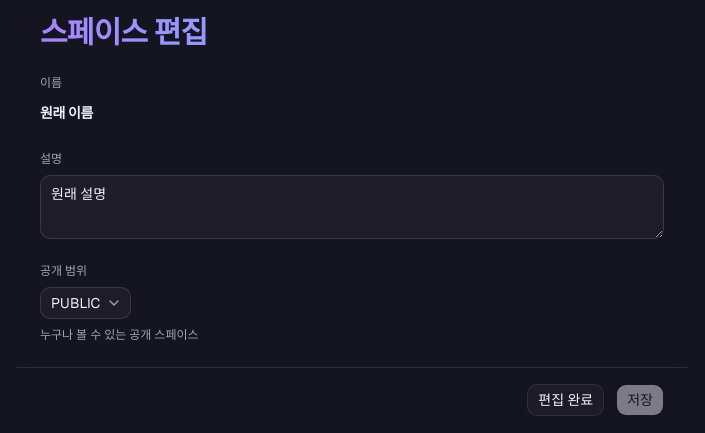
Scenario: SpaceEditView › 저장 후 baseline 갱신 — 저장 버튼이 다시 disabled 로 돌아간다
Step 1. Replace the text in the field showing "원래 이름" with "새 이름" → (352, 113), box [40,99,664,127]
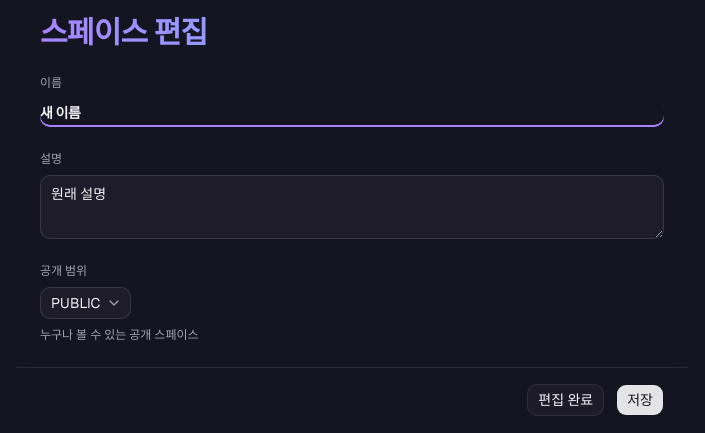
Step 2. Click the button "저장" → (640, 400), box [616,384,664,416]
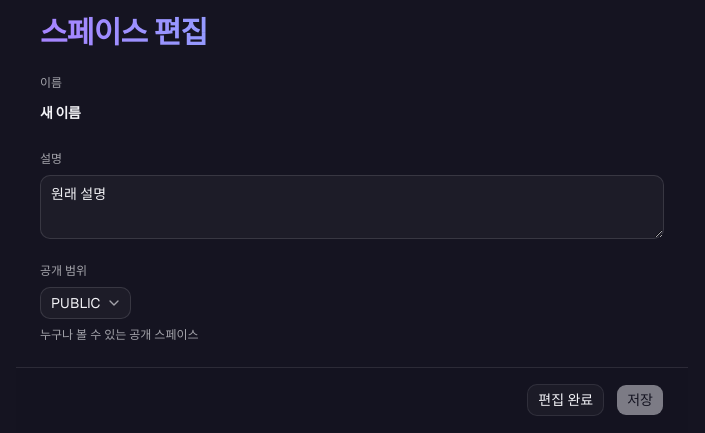
Expected: the button "저장" is disabled, [616,384,664,416]
